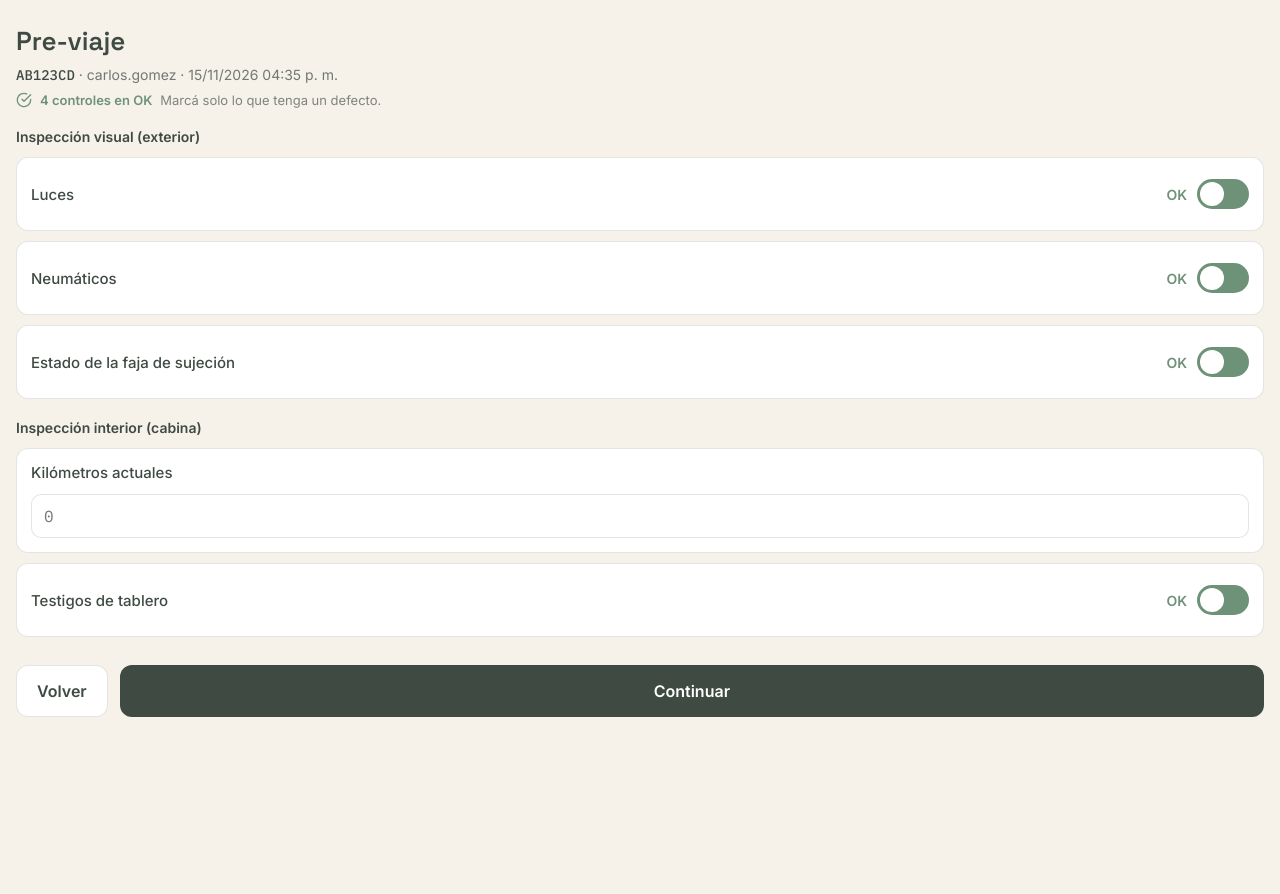
Test: InspectionFlow — cubiertas con problemas (CAM-157) › con el dibujo disponible hay que decir qué cubierta es
The image size is (1280, 894).
Click the switch named "Neumáticos: reportar defecto".
click(1208, 278)  # box [1166, 256, 1249, 300]
(page scrolled)
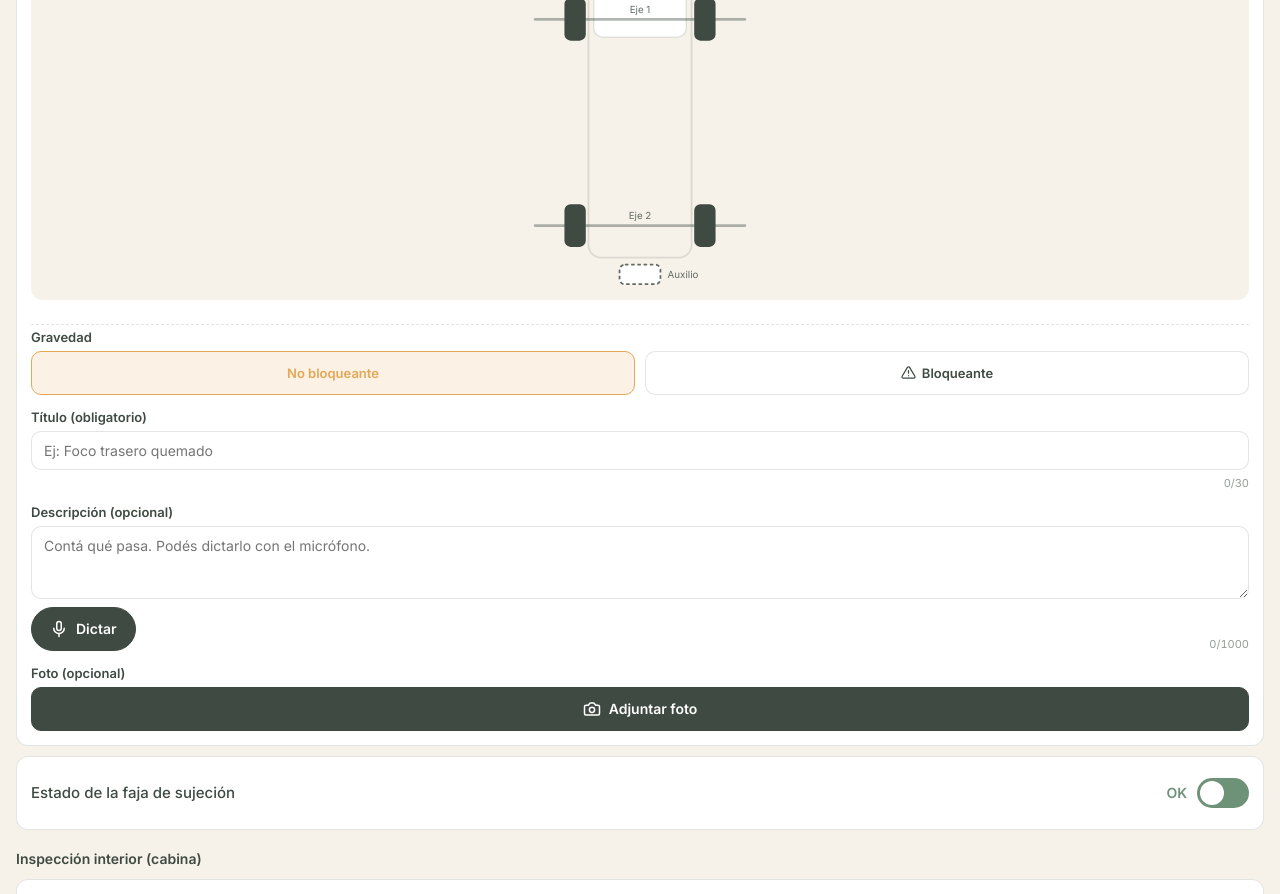
Type "Gastada" into the field labelled "Título (obligatorio)".
click(640, 450); type("Gastada")  # box [31, 431, 1249, 470]
(page scrolled)
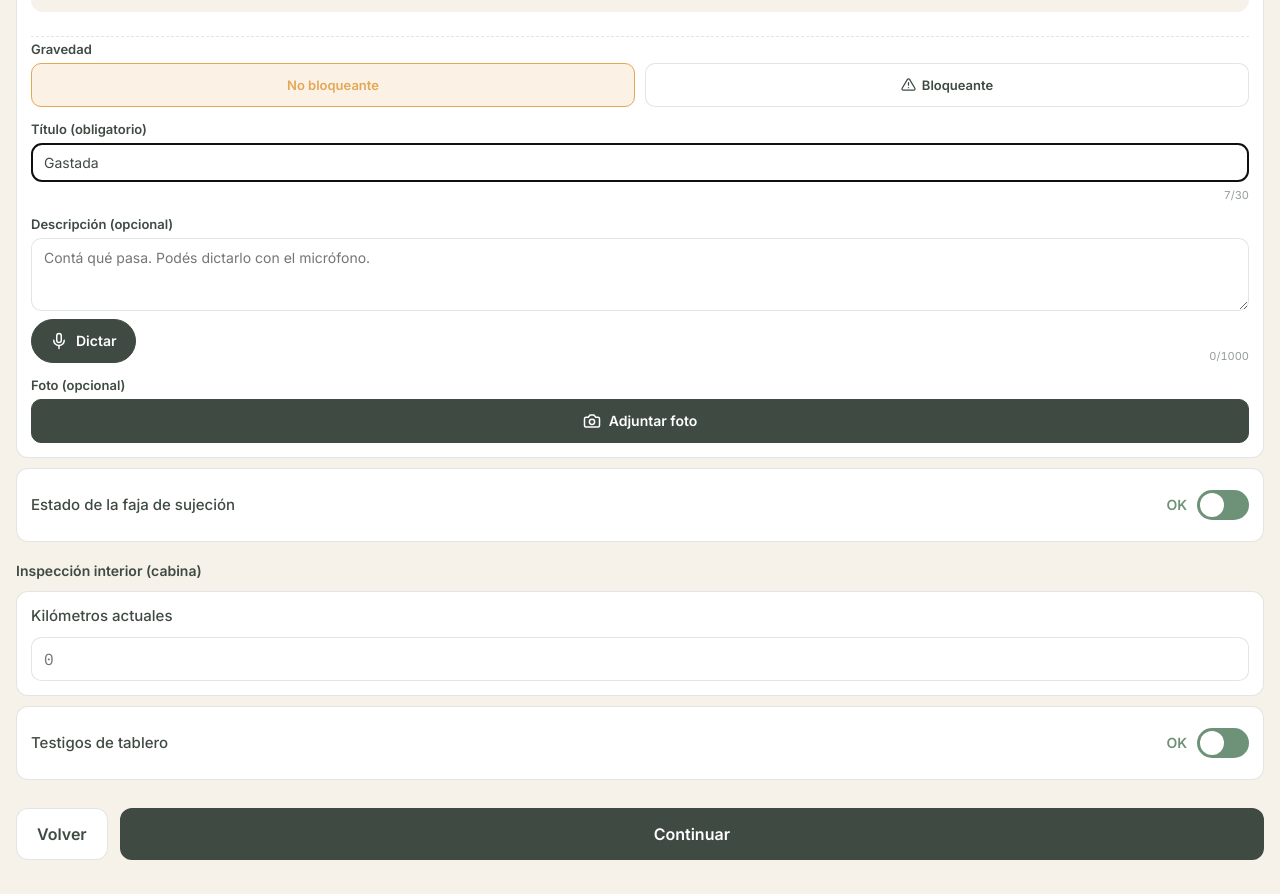
Type "84320" into the number field labelled "Kilómetros actuales".
click(640, 659); type("84320")  # box [31, 637, 1249, 681]
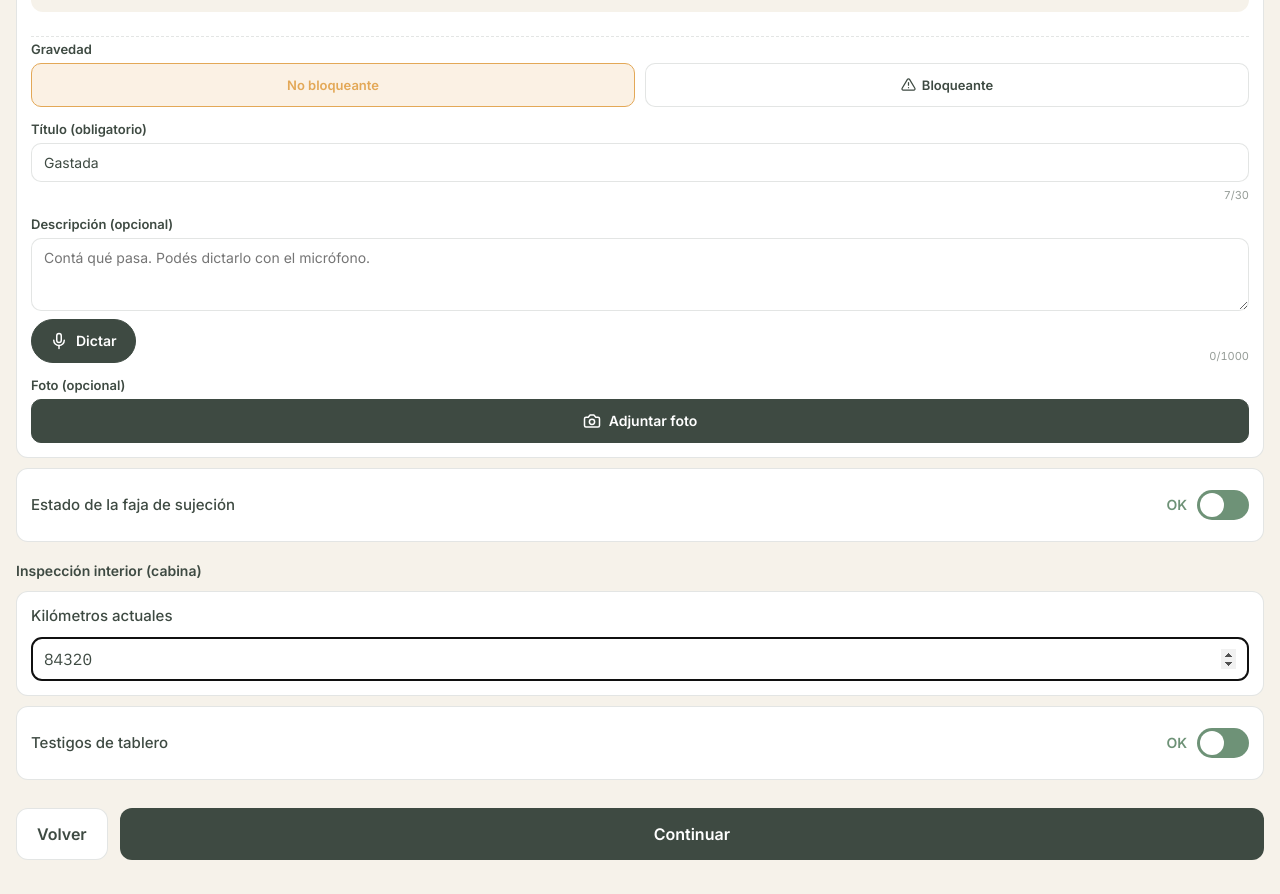
Click the button "Continuar".
click(692, 834)  # box [120, 808, 1264, 860]
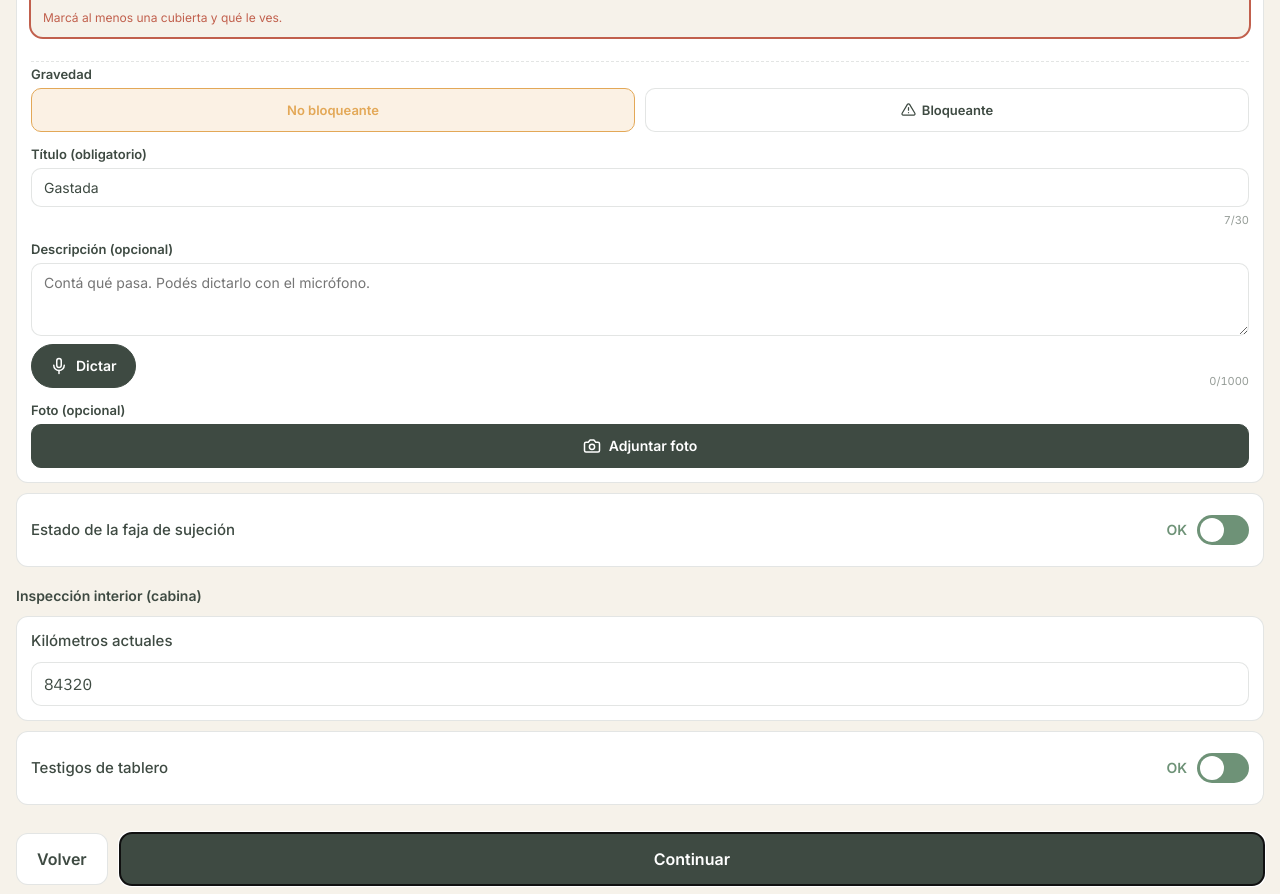
expect the text "Marcá al menos una cubierta y qué le ves." is shown: met, box [43, 10, 282, 25]
